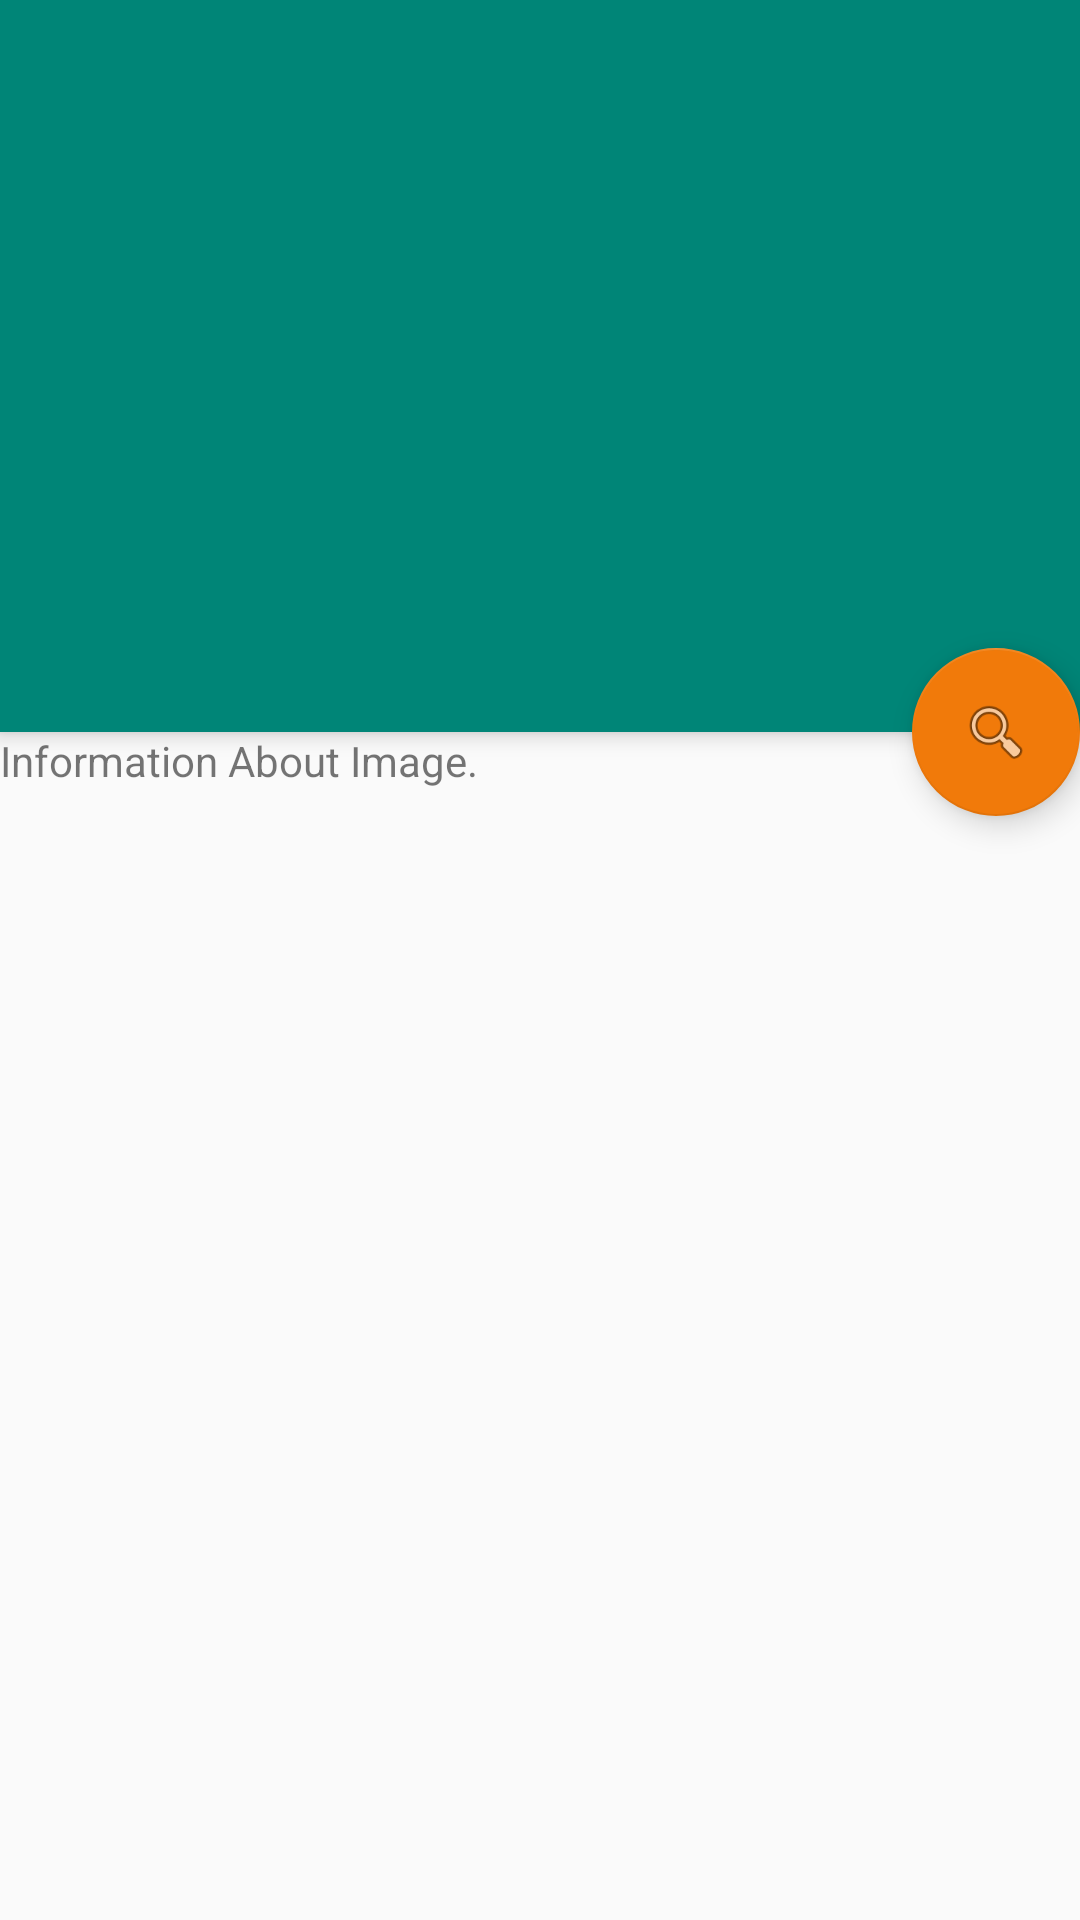

Icon click points for this 1080px×1920px phone screenshot, format (x=x, y=y):
search: (x=996, y=732)
